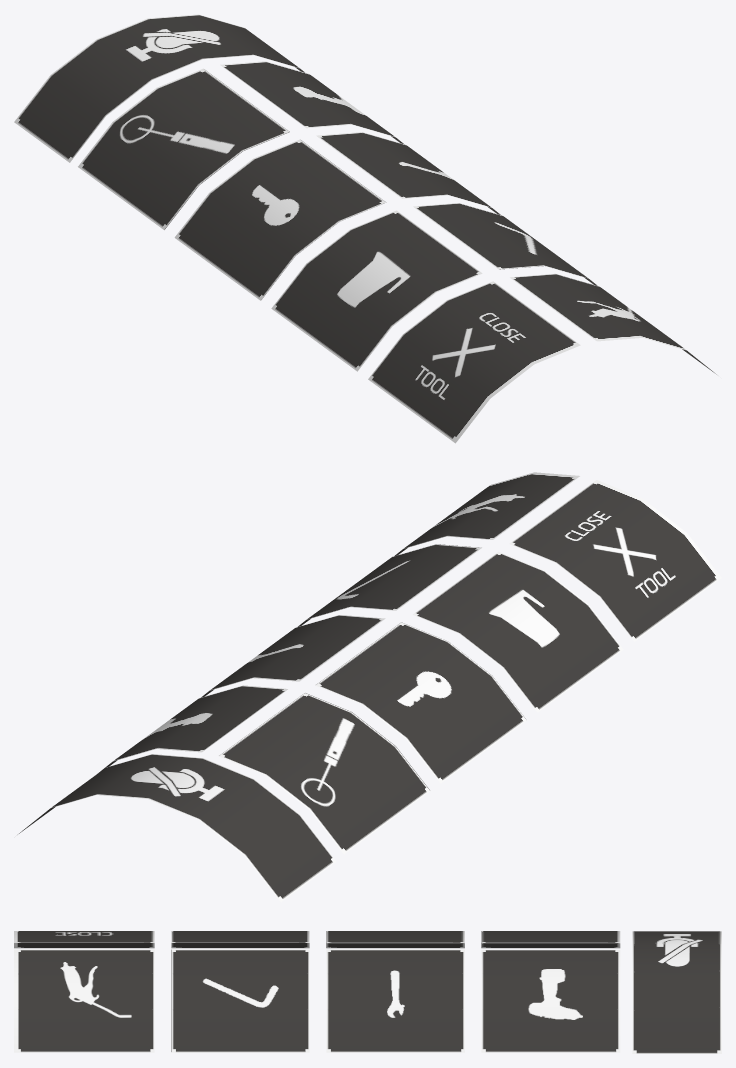
Rendered from Tools_Hand_UI_03.fbx.
The picture shows the model from 3 angles, top to bottom: view 1: azimuth 30°, elevation 25°; view 2: azimuth 150°, elevation 25°; view 3: azimuth 270°, elevation 25°; orthographic projection. The views are drawn at different scales.
Visible parts, largest first — view 1: Close_Tool_Button, Laser_Pointer_Spawn, Key_Spawn, Pitcher_Spawn, MIC_Toggle, AirGun_Spawn, Spanner_Spawn, Allen_Key_Spawn, Drill_Spawn; view 2: Close_Tool_Button, Laser_Pointer_Spawn, Key_Spawn, Pitcher_Spawn, MIC_Toggle, AirGun_Spawn, Spanner_Spawn, Allen_Key_Spawn, Drill_Spawn; view 3: AirGun_Spawn, Drill_Spawn, Spanner_Spawn, Allen_Key_Spawn, MIC_Toggle, Close_Tool_Button, Laser_Pointer_Spawn, Key_Spawn, Pitcher_Spawn.
Boxes of the visible parts, x1,y1,x2,y2 form: Close_Tool_Button: [368, 281, 580, 443]; Laser_Pointer_Spawn: [78, 68, 289, 230]; Key_Spawn: [174, 139, 386, 300]; Pitcher_Spawn: [271, 210, 482, 371]; MIC_Toggle: [14, 14, 304, 162]; AirGun_Spawn: [510, 273, 718, 375]; Spanner_Spawn: [316, 132, 500, 214]; Allen_Key_Spawn: [413, 203, 597, 285]; Drill_Spawn: [220, 61, 403, 143]; Close_Tool_Button: [509, 480, 721, 641]; Laser_Pointer_Spawn: [218, 693, 430, 854]; Key_Spawn: [315, 622, 526, 783]; Pitcher_Spawn: [412, 551, 623, 712]; MIC_Toggle: [17, 754, 336, 902]; AirGun_Spawn: [394, 472, 579, 556]; Spanner_Spawn: [201, 615, 385, 697]; Allen_Key_Spawn: [298, 544, 481, 626]; Drill_Spawn: [97, 685, 287, 773]; AirGun_Spawn: [14, 949, 154, 1052]; Drill_Spawn: [481, 949, 620, 1052]; Spanner_Spawn: [326, 949, 464, 1052]; Allen_Key_Spawn: [171, 949, 309, 1052]; MIC_Toggle: [632, 931, 721, 1053]; Close_Tool_Button: [14, 931, 154, 948]; Laser_Pointer_Spawn: [481, 931, 620, 948]; Key_Spawn: [326, 931, 464, 948]; Pitcher_Spawn: [171, 931, 309, 948].
Bounding box in the file's own units: 7.02 × 1.79 × 20.11.
